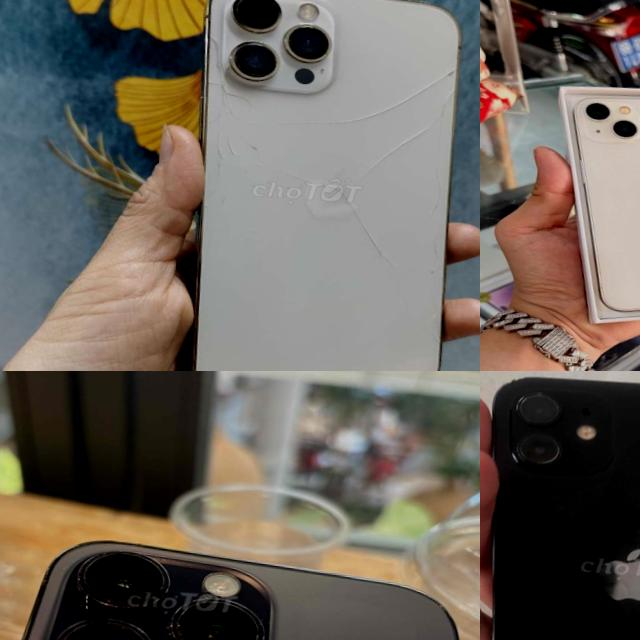gen_12_13: (170, 0, 480, 371), (480, 371, 640, 640), (561, 88, 640, 323)
gen_14: (0, 518, 480, 640)
physical_damage: (190, 25, 460, 318)
